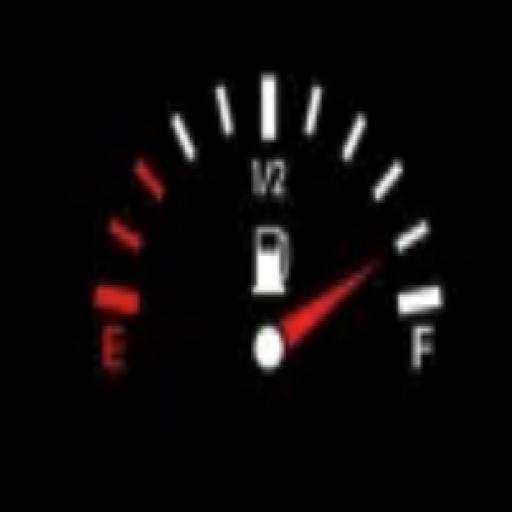empty: (98, 322, 120, 360)
fuel_icon: (250, 221, 290, 296)
full: (405, 323, 436, 374)
guage_area: (84, 68, 456, 416)
needle_center: (250, 313, 302, 376)
needle_tip: (344, 252, 382, 304)
